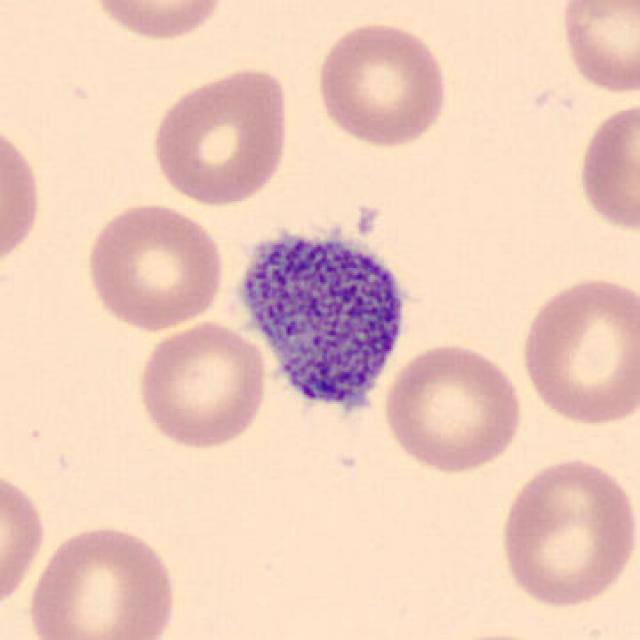Platelets: (226, 213, 416, 432)
RBC: (494, 453, 638, 610), (148, 62, 294, 208), (381, 339, 526, 476), (82, 198, 226, 334), (516, 272, 638, 430), (23, 520, 181, 640), (134, 318, 270, 452), (313, 18, 451, 150), (572, 97, 640, 236), (554, 0, 640, 97), (0, 114, 46, 278), (0, 464, 48, 614), (85, 0, 231, 44), (428, 627, 570, 640)
